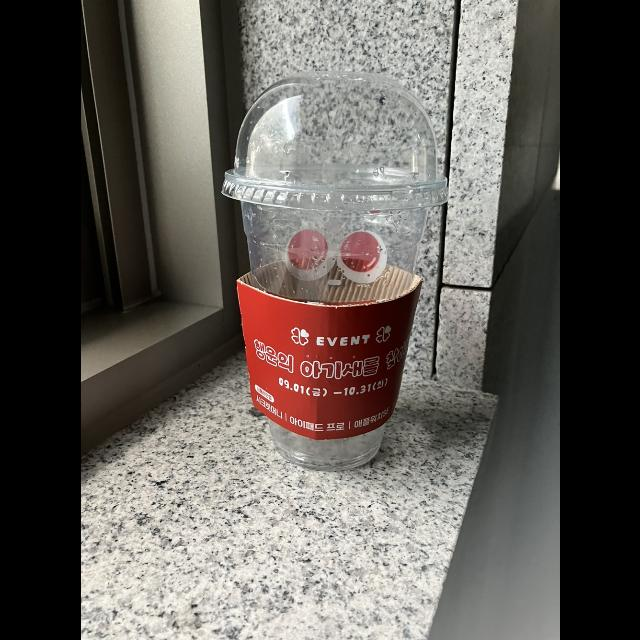plastic_cup: (226, 64, 446, 472)
plastic_cup_lid: (219, 76, 449, 216)
